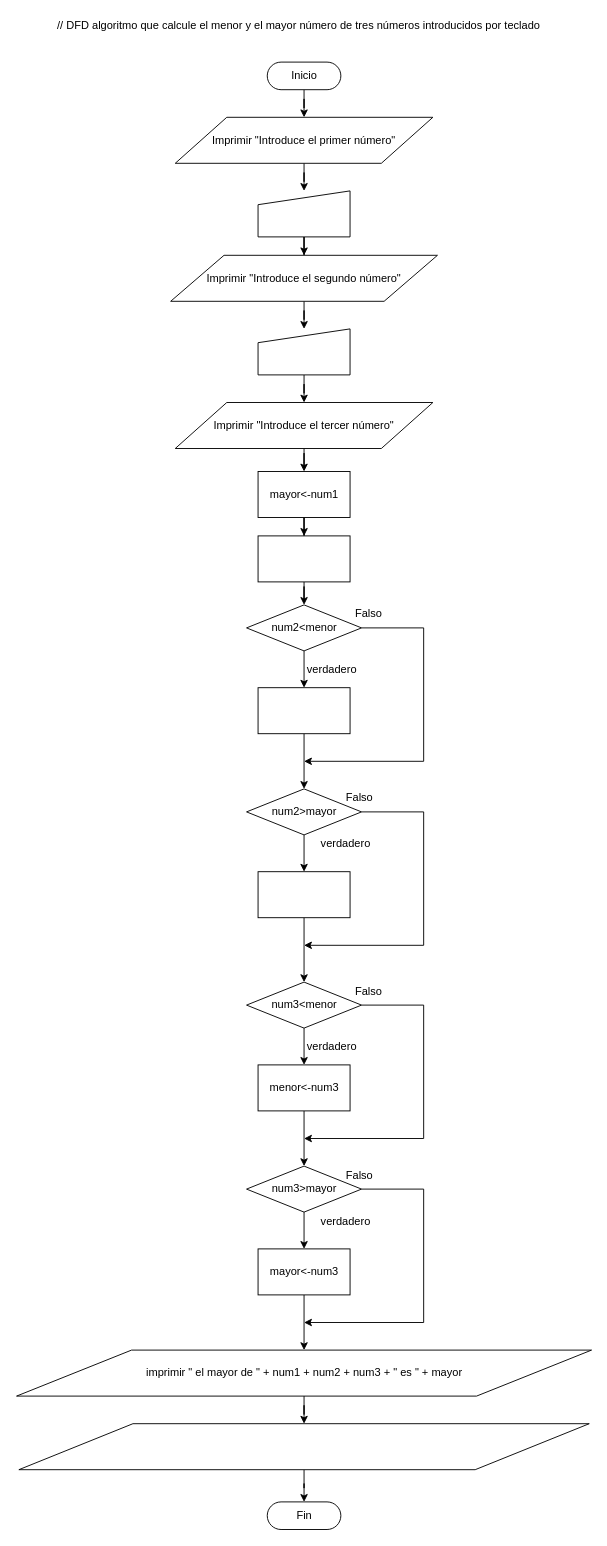
The diagram is 607 pixels wide and 1546 high, and some of its shapes have lost their labels. The shapes that lost their labels are listed below. From the top down, each one's centre as x and y in pixels, then its label:
the point at 303,213: Leer num1
the point at 303,351: Leer num2
the point at 303,558: menor<-num1
the point at 303,710: menor<-num2
the point at 303,894: mayor<-num2
the point at 303,1446: imprimir "el menor de" + num1 + num2 + num3 + "es" + menor
